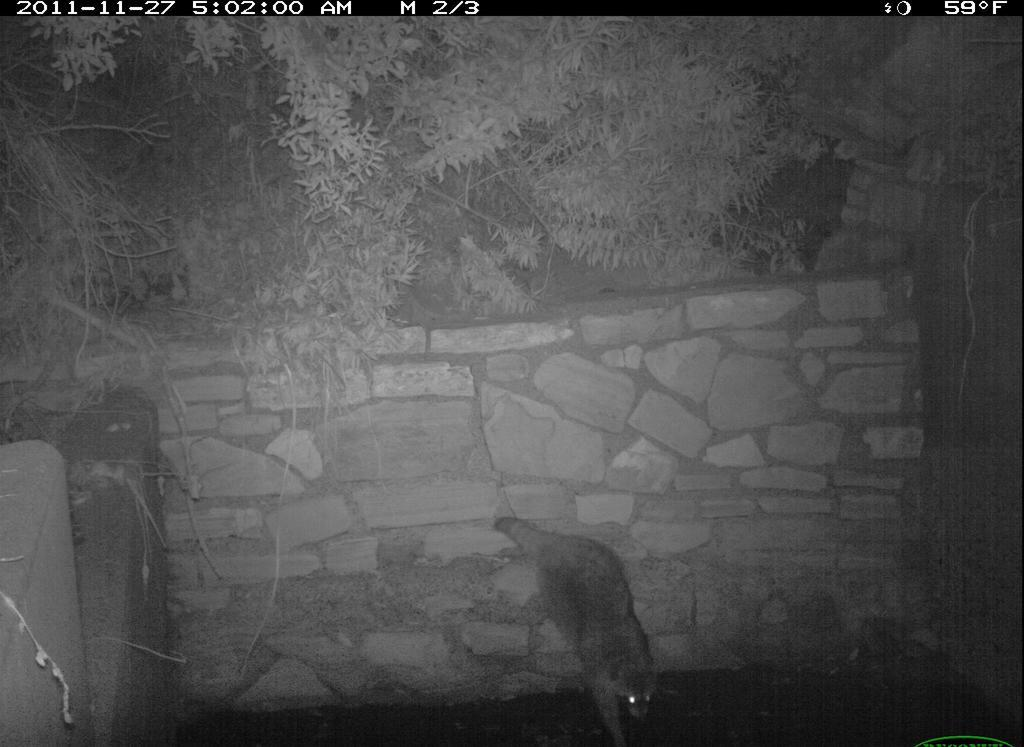raccoon: (489, 504, 673, 744)
